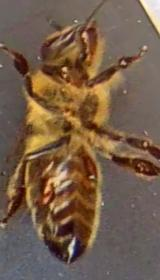varroa_mite: (20, 176, 66, 211), (74, 144, 108, 187)
